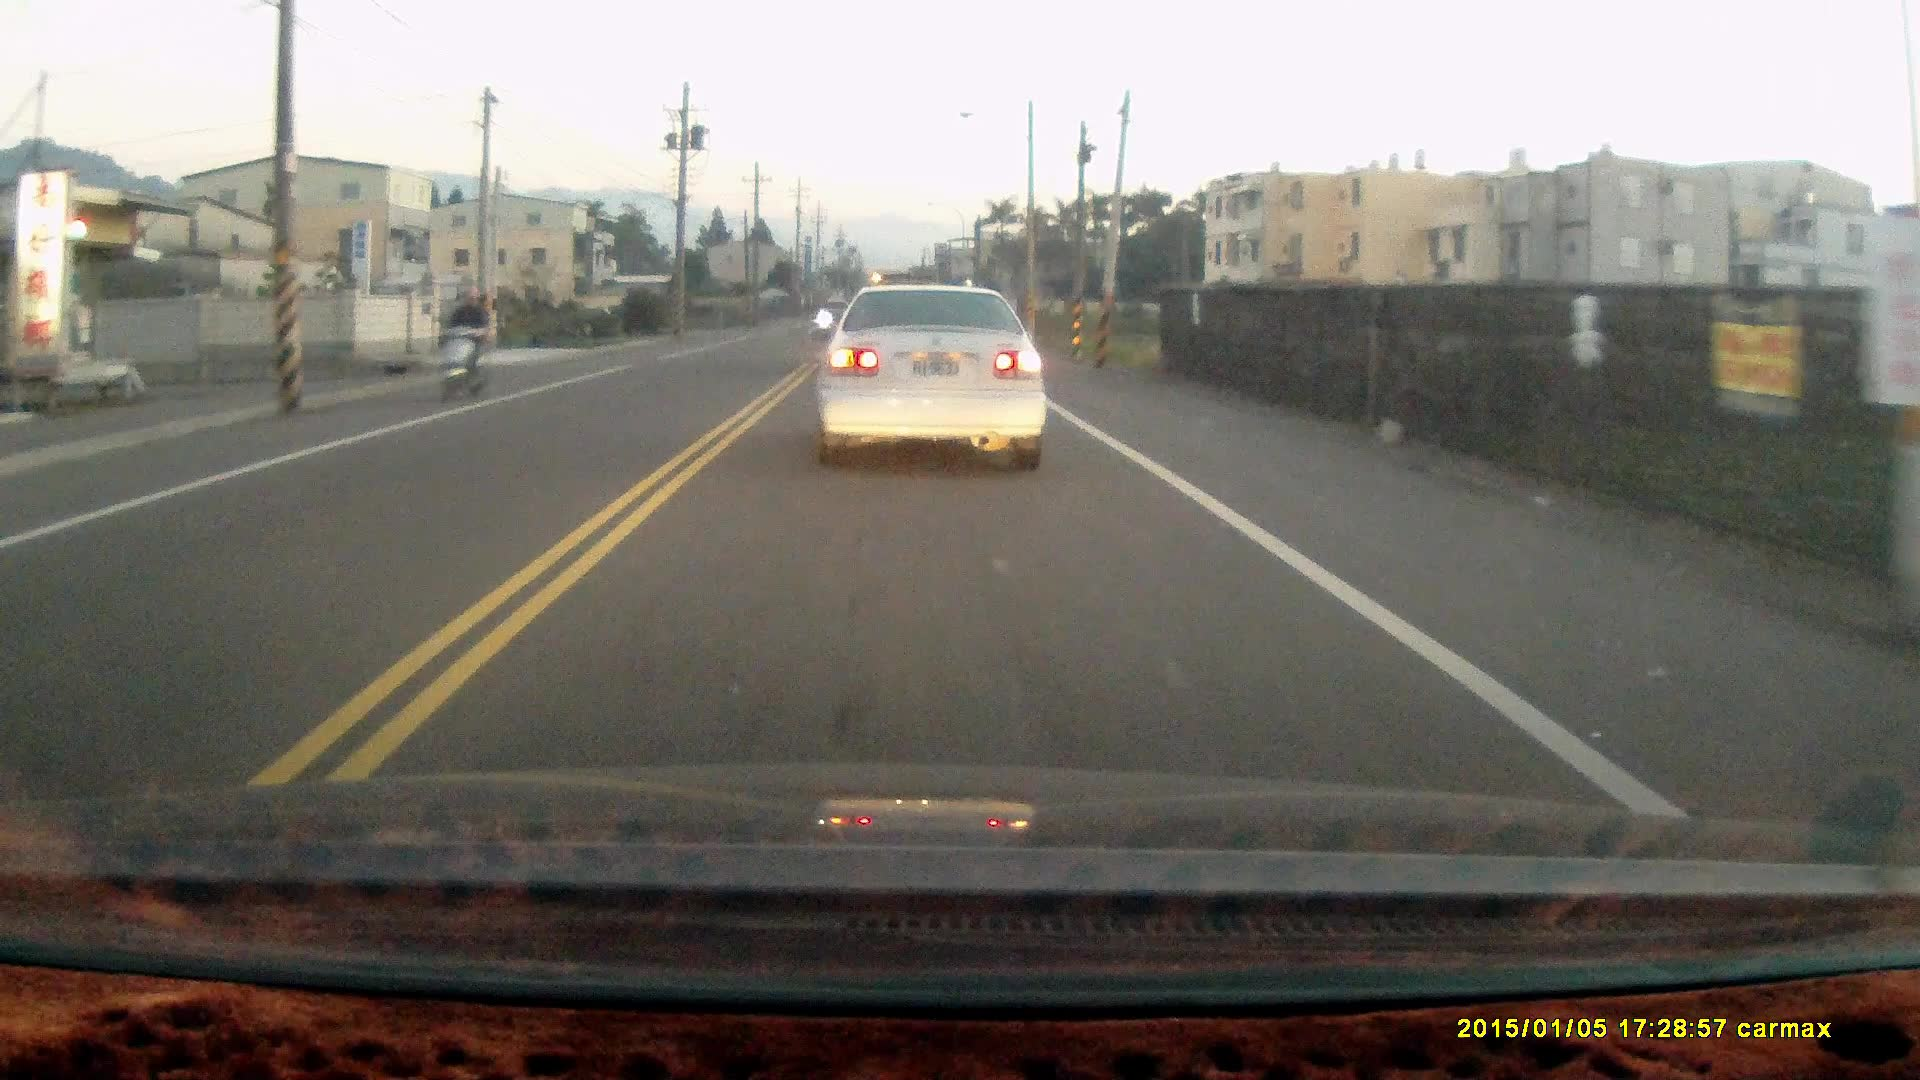rider: (433, 285, 492, 408)
vehicle: (810, 281, 1047, 472)
